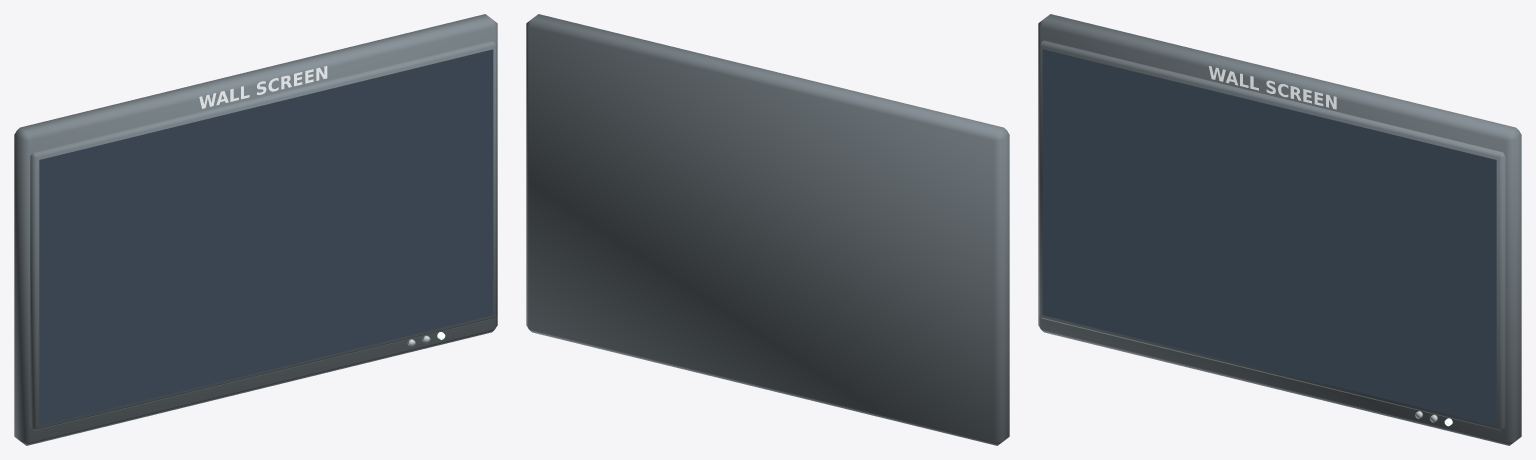
File: wall_screen_standard.glb
The picture shows the model from 3 angles, left to right: view 1: azimuth 30°, elevation 25°; view 2: azimuth 150°, elevation 25°; view 3: azimuth 330°, elevation 25°; orthographic projection.
Parts seen in each view (by area): view 1: LiveViewSurface_glass, DisplayHousing_frame, LiveViewSurfaceFrame_frame, TypeLabel_white; view 2: DisplayHousing_frame; view 3: LiveViewSurface_glass, DisplayHousing_frame, LiveViewSurfaceFrame_frame, TypeLabel_white.
Part boxes in pixels (x1=…): LiveViewSurface_glass: x1=39, y1=49, x2=493, y2=425; DisplayHousing_frame: x1=14, y1=14, x2=497, y2=445; LiveViewSurfaceFrame_frame: x1=30, y1=40, x2=496, y2=430; TypeLabel_white: x1=199, y1=66, x2=327, y2=108; DisplayHousing_frame: x1=526, y1=14, x2=1009, y2=445; LiveViewSurface_glass: x1=1042, y1=49, x2=1496, y2=425; DisplayHousing_frame: x1=1038, y1=14, x2=1521, y2=445; LiveViewSurfaceFrame_frame: x1=1039, y1=40, x2=1505, y2=430; TypeLabel_white: x1=1209, y1=66, x2=1336, y2=109.
Bounding box in the file's own units: 2.73 × 1.72 × 0.168.
